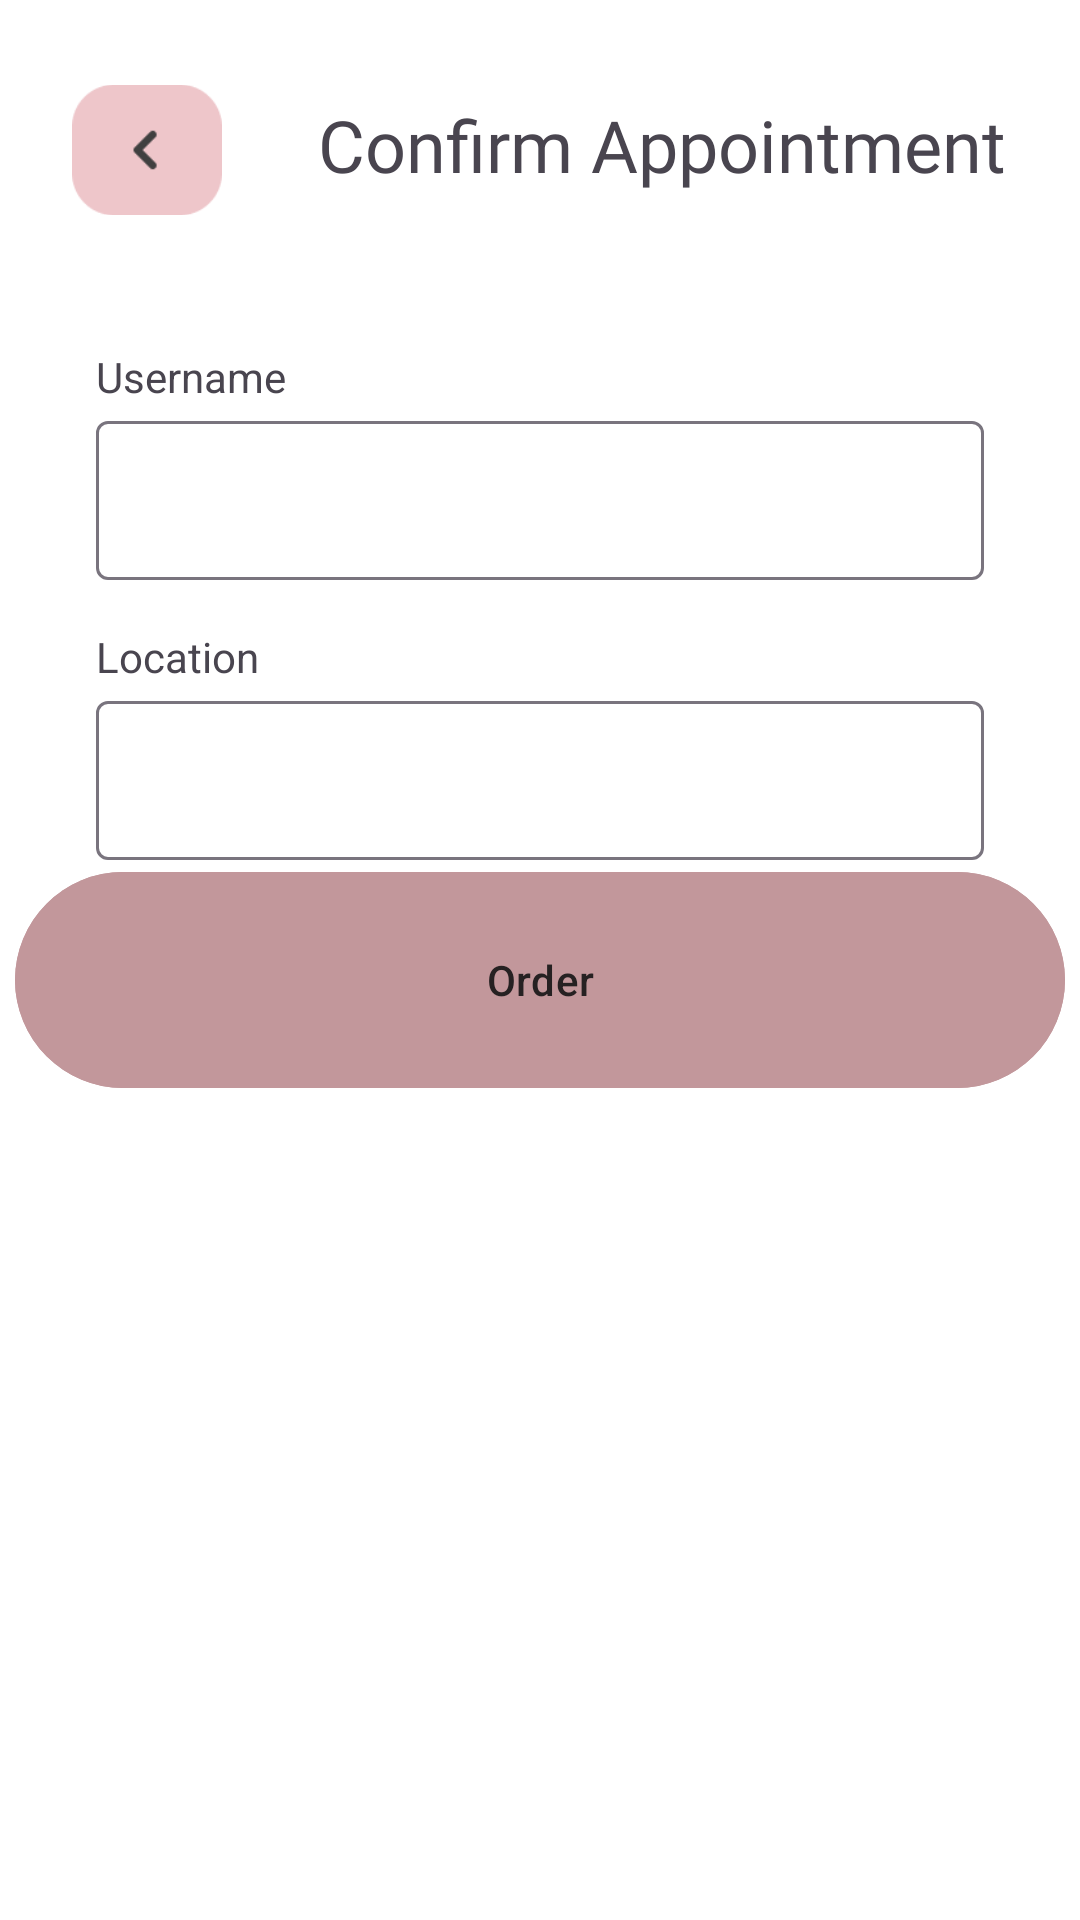

Named icons in this screenshot (1080×1920) and their centers, (x=x, y=y):
arrow: (x=147, y=150)
